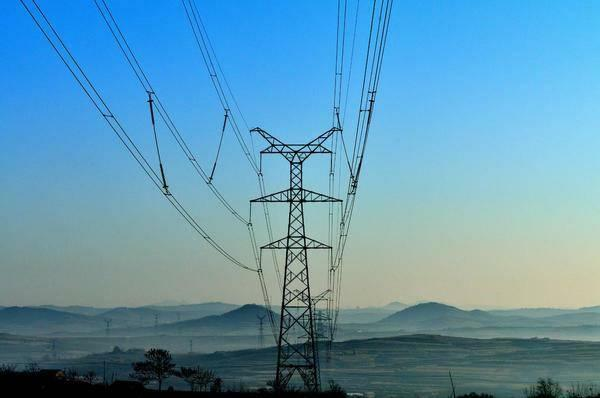power_tower: (243, 119, 354, 388)
